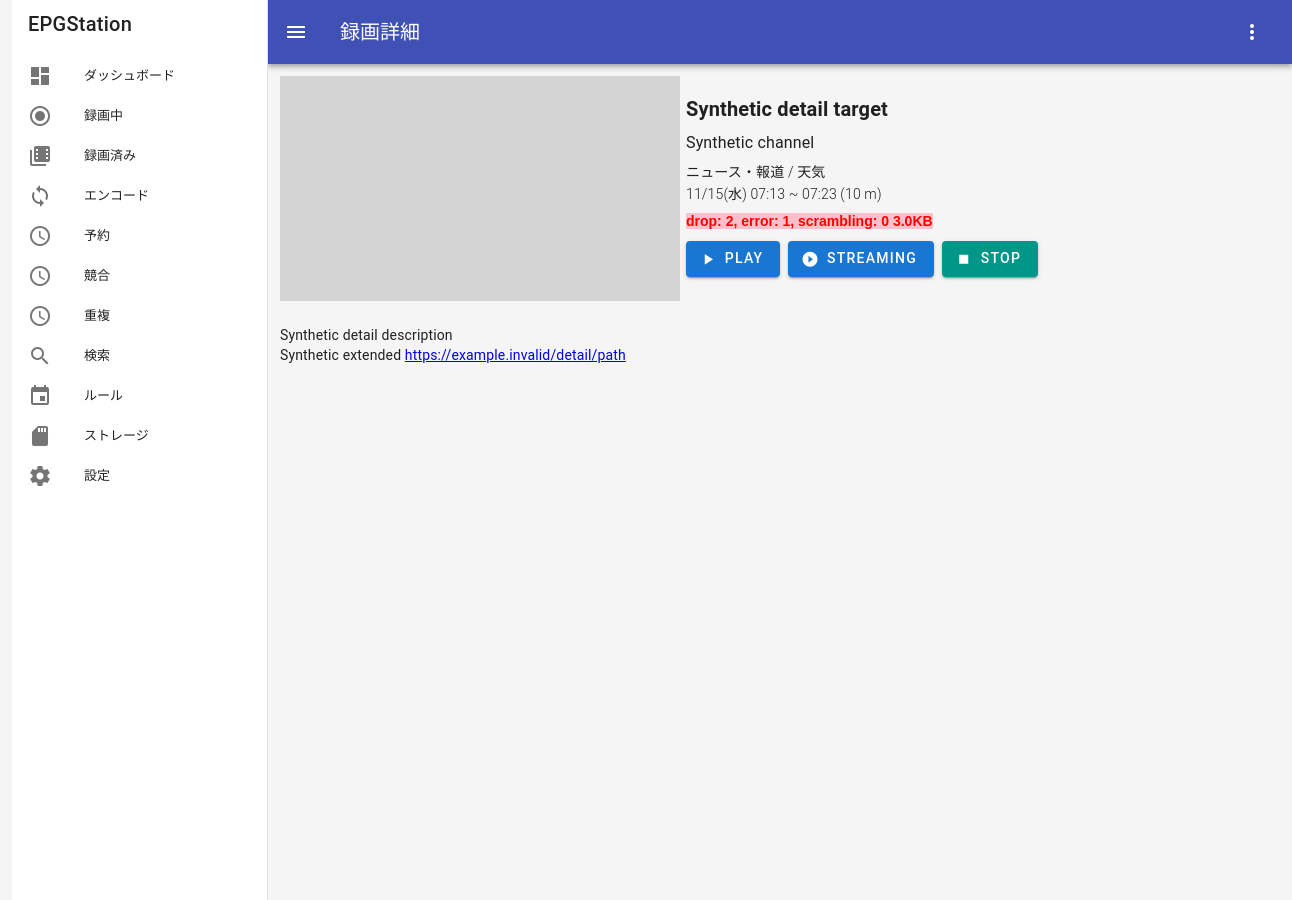
Test case: Recorded detail streaming availability › [AC 3.35] excludes encoded video files when recorded encoded stream config is absent
Check: the element with test id "recorded-detail-page" is shown, box [280,76,1038,363]
Click the button "streaming" at (861, 258), box [788,240,934,276]
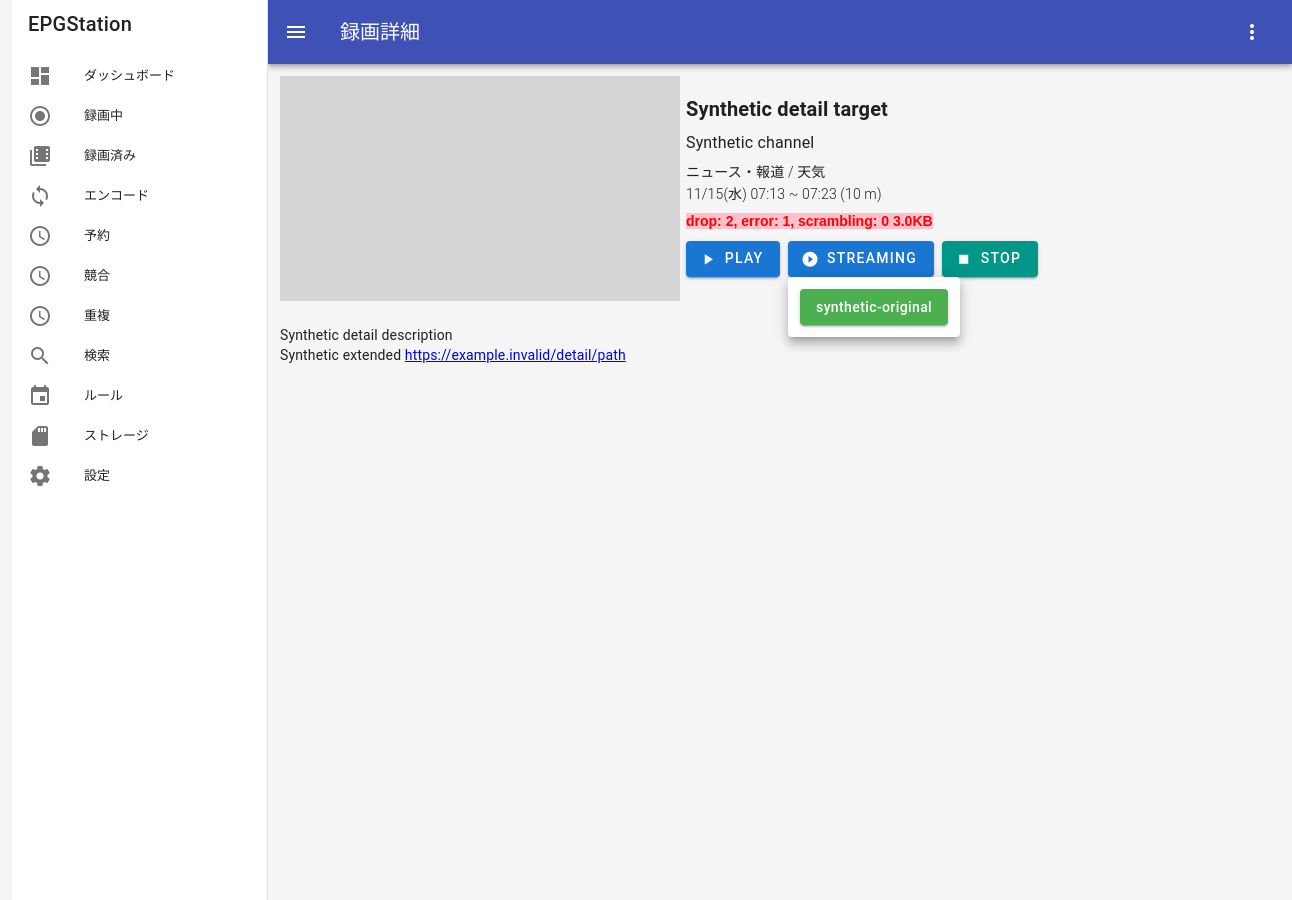
Check: the button "synthetic-original" is shown, box [800,289,948,325]
